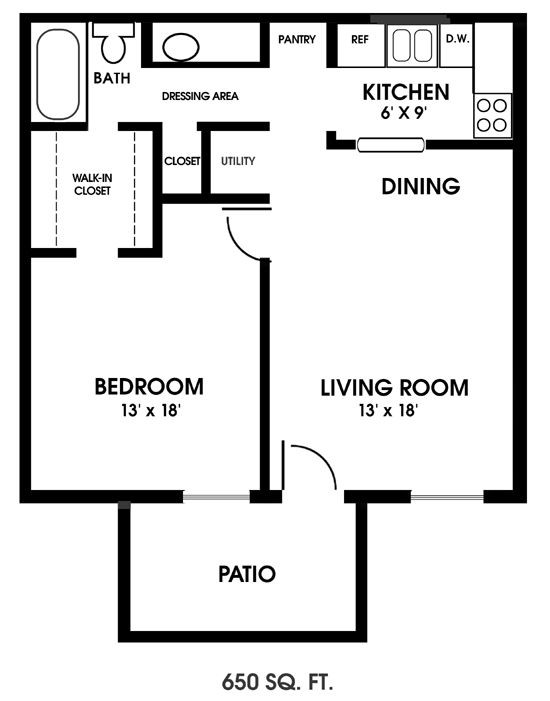door: (223, 201, 287, 264), (274, 434, 345, 485)
room: (272, 135, 527, 511), (18, 239, 280, 512), (103, 502, 378, 652), (248, 8, 529, 151), (21, 5, 160, 263)
wall: (16, 16, 35, 500), (509, 22, 528, 497), (24, 10, 528, 25), (252, 261, 278, 507), (341, 485, 373, 638), (110, 627, 366, 646), (41, 487, 183, 512), (112, 507, 136, 645), (151, 122, 170, 260), (137, 61, 272, 79), (159, 194, 289, 210), (194, 124, 218, 195), (192, 116, 268, 135), (323, 28, 346, 82), (139, 25, 159, 83), (257, 24, 280, 70), (119, 243, 163, 264), (26, 119, 93, 132), (320, 130, 355, 154), (30, 244, 80, 260), (113, 120, 160, 136)
window: (404, 482, 485, 513), (182, 478, 254, 510)
